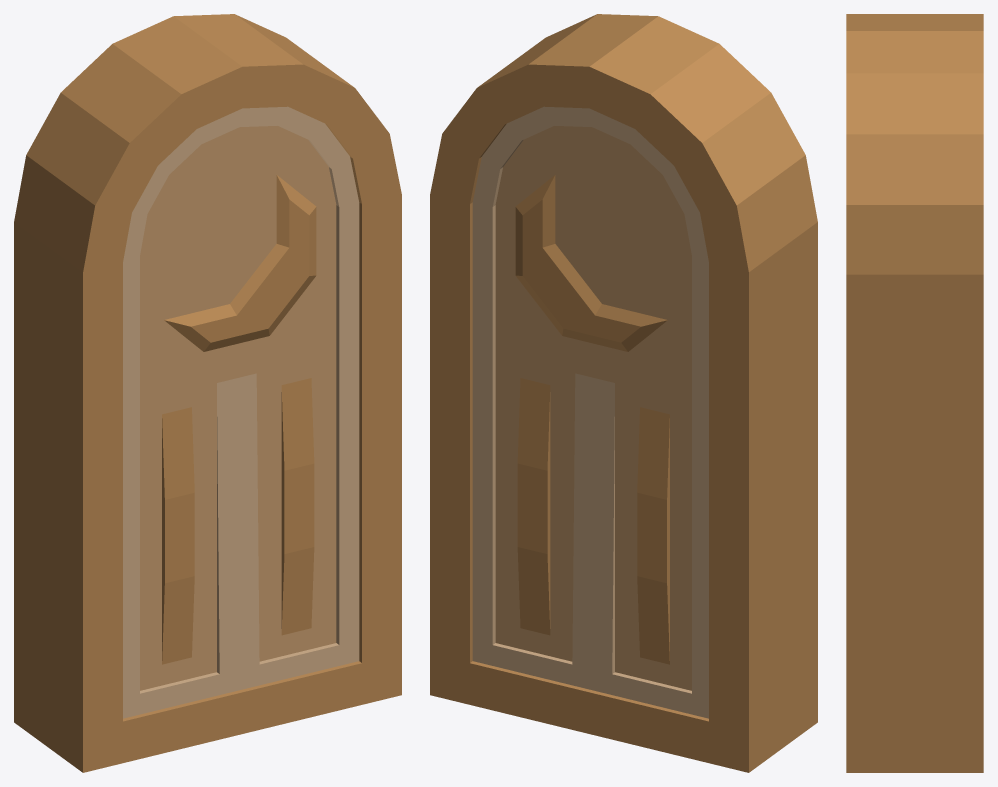
The model's file is Wall_Straight_Door_Moon.fbx.
The picture shows the model from 3 angles, left to right: view 1: azimuth 30°, elevation 25°; view 2: azimuth 150°, elevation 25°; view 3: azimuth 270°, elevation 25°; orthographic projection.
Visible parts, largest first — view 1: Sandstone_6.Sandstone_6.Sandstone_6.Sandstone_6.Sandstone_6., Sandstone_5.Sandstone_5, Sandstone_4.Sandstone_4.Sandstone_4.Sandstone_4.Sandstone_4.; view 2: Sandstone_6.Sandstone_6.Sandstone_6.Sandstone_6.Sandstone_6., Sandstone_5.Sandstone_5, Sandstone_4.Sandstone_4.Sandstone_4.Sandstone_4.Sandstone_4.; view 3: Sandstone_6.Sandstone_6.Sandstone_6.Sandstone_6.Sandstone_6..
Part boxes in pixels (box(x1,y1,x2,y2)): Sandstone_6.Sandstone_6.Sandstone_6.Sandstone_6.Sandstone_6.: box(14, 14, 401, 772); Sandstone_5.Sandstone_5: box(140, 126, 336, 690); Sandstone_4.Sandstone_4.Sandstone_4.Sandstone_4.Sandstone_4.: box(123, 106, 359, 718); Sandstone_6.Sandstone_6.Sandstone_6.Sandstone_6.Sandstone_6.: box(430, 14, 817, 772); Sandstone_5.Sandstone_5: box(495, 126, 691, 690); Sandstone_4.Sandstone_4.Sandstone_4.Sandstone_4.Sandstone_4.: box(472, 106, 708, 718); Sandstone_6.Sandstone_6.Sandstone_6.Sandstone_6.Sandstone_6.: box(846, 14, 983, 772).
Bounding box in the file's own units: 0.8 × 1.6 × 0.3.
